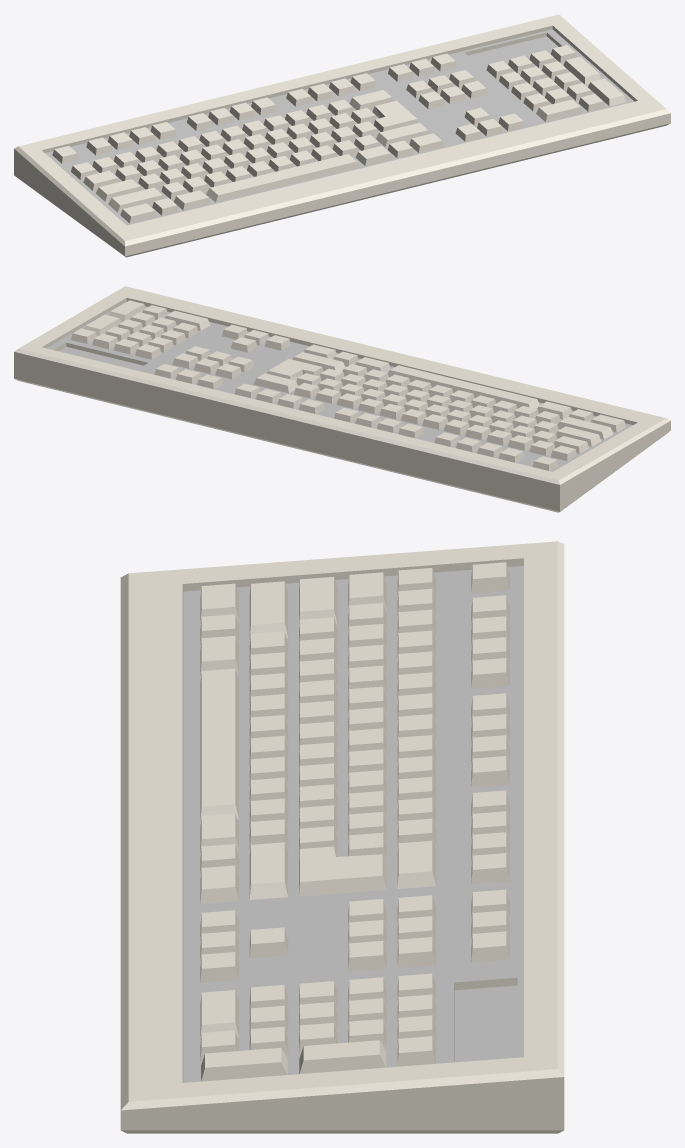
File: 1329_Keyboard.obj
3 renders of one model, top to bottom at view 1: azimuth 30°, elevation 25°; view 2: azimuth 150°, elevation 25°; view 3: azimuth 270°, elevation 25°, orthographic. The views are drawn at different scales.
Visible parts, largest first — view 1: Keyboard; view 2: Keyboard; view 3: Keyboard.
Part boxes in pixels (box(x1,y1,x2,y2)): Keyboard: box(14, 14, 670, 257); Keyboard: box(14, 286, 670, 512); Keyboard: box(120, 541, 564, 1133).
Size of the model in its own units: 92.86 by 5.38 by 32.67.
1 material, 1 textured.
